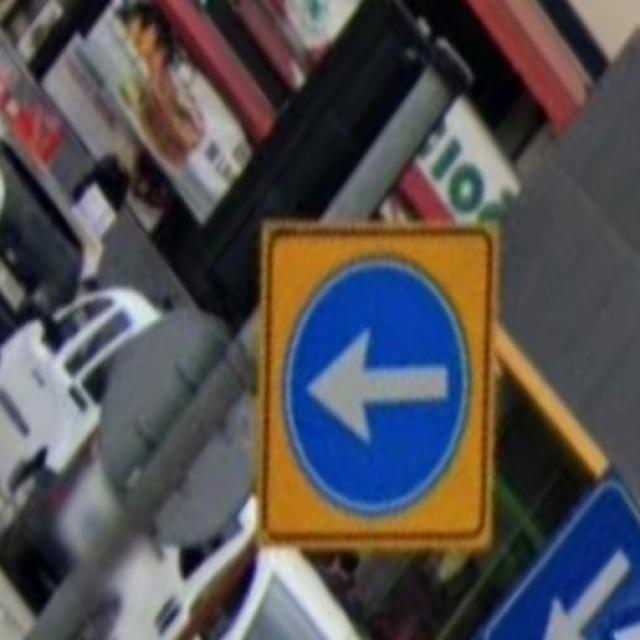Turn Left: (290, 249, 470, 517)
